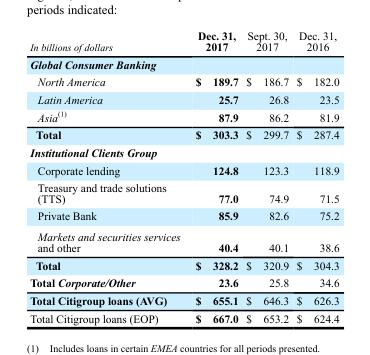table: (29, 28, 338, 324)
table column: (29, 28, 187, 324), (187, 28, 241, 324), (241, 28, 291, 324), (291, 28, 338, 324)
table column header: (29, 28, 338, 55)
table projected row header: (29, 143, 338, 161), (29, 55, 338, 72)
table row: (29, 225, 338, 255), (29, 178, 338, 206), (29, 28, 338, 55), (29, 206, 338, 225), (29, 72, 338, 90), (29, 107, 338, 125), (29, 125, 338, 143), (29, 143, 338, 161), (29, 255, 338, 273), (29, 273, 338, 291), (29, 55, 338, 72), (29, 90, 338, 107), (29, 161, 338, 178), (29, 291, 338, 308), (29, 308, 338, 324)
